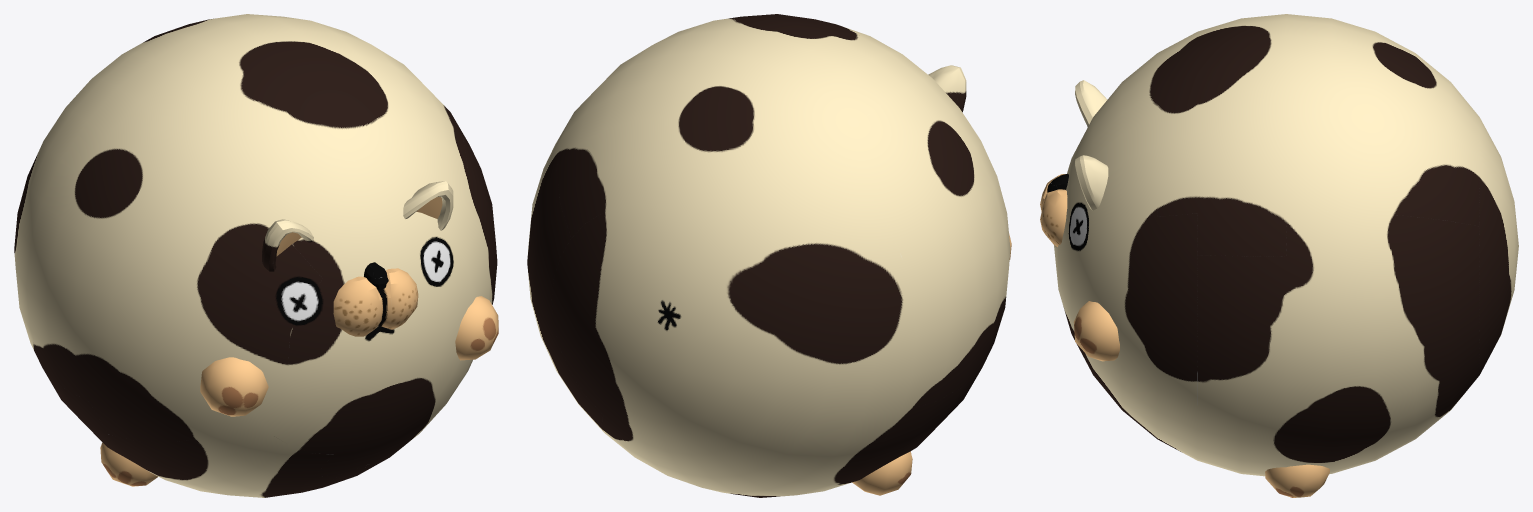
Rendered from ggjcat.glb.
3 views of the same model, side by side, from view 1: azimuth 30°, elevation 25°; view 2: azimuth 150°, elevation 25°; view 3: azimuth 270°, elevation 25° (orthographic). The views are drawn at different scales.
Parts seen in each view (by area): view 1: ggjcat; view 2: ggjcat; view 3: ggjcat.
Boxes of the visible parts, x1,y1,x2,y2 form: ggjcat: (14, 14, 498, 497); ggjcat: (527, 14, 1011, 497); ggjcat: (1040, 14, 1518, 497).
Size of the model in its own units: 2 by 2 by 2.06.
3 materials, 3 textured.
